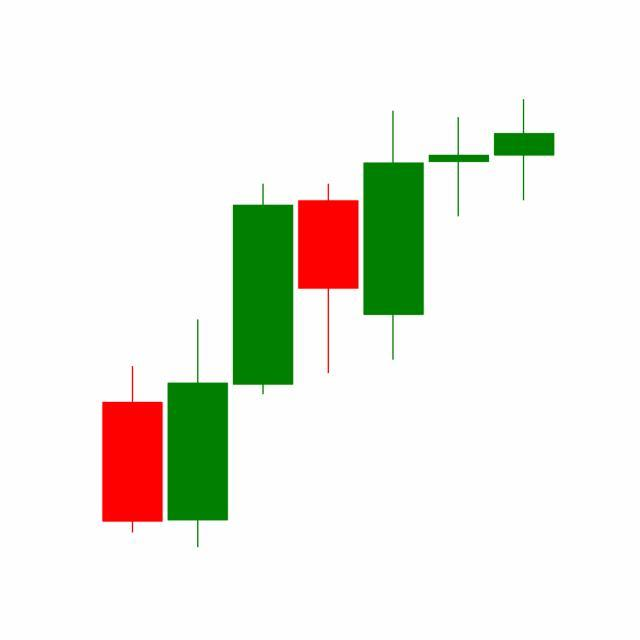Hikkake Pattern: (229, 99, 555, 399)
